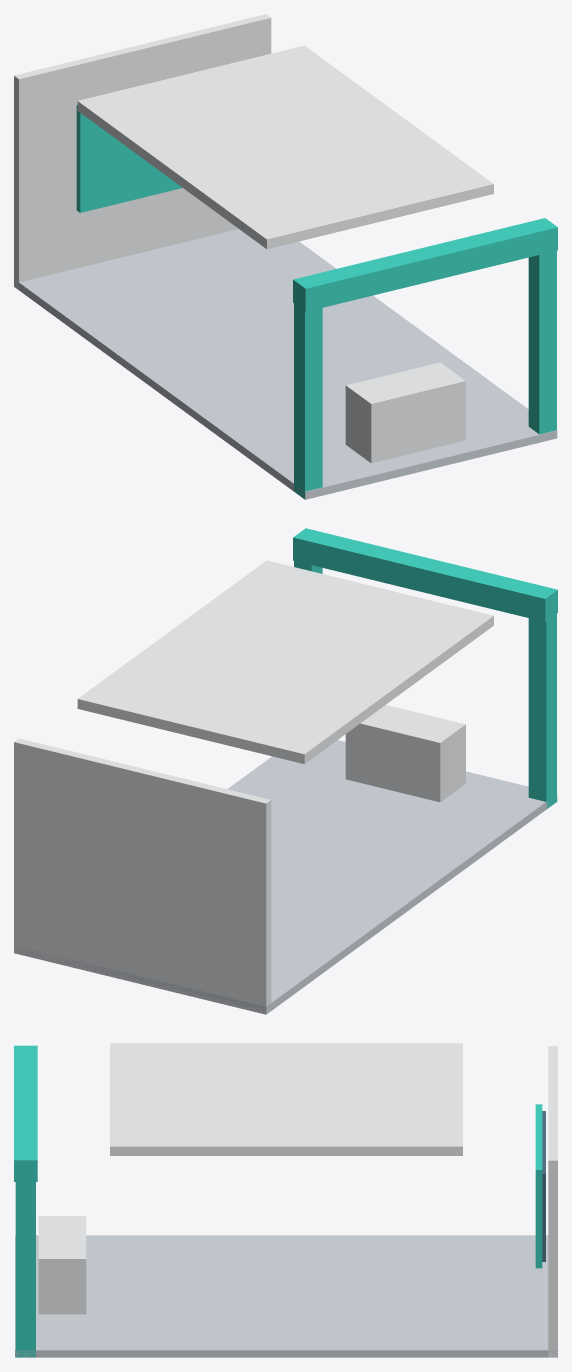
3 renders of one model, top to bottom at view 1: azimuth 30°, elevation 25°; view 2: azimuth 150°, elevation 25°; view 3: azimuth 270°, elevation 25°, orthographic. The views are drawn at different scales.
Parts seen in each view (by area): view 1: Exhibition Booth Concept; view 2: Exhibition Booth Concept; view 3: Exhibition Booth Concept.
Part boxes in pixels (x1,y1,x2,y2): Exhibition Booth Concept: (14, 14, 557, 499); Exhibition Booth Concept: (14, 528, 557, 1014); Exhibition Booth Concept: (14, 1043, 557, 1357).
Size of the model in its own units: 4 by 3.34 by 8.01.
